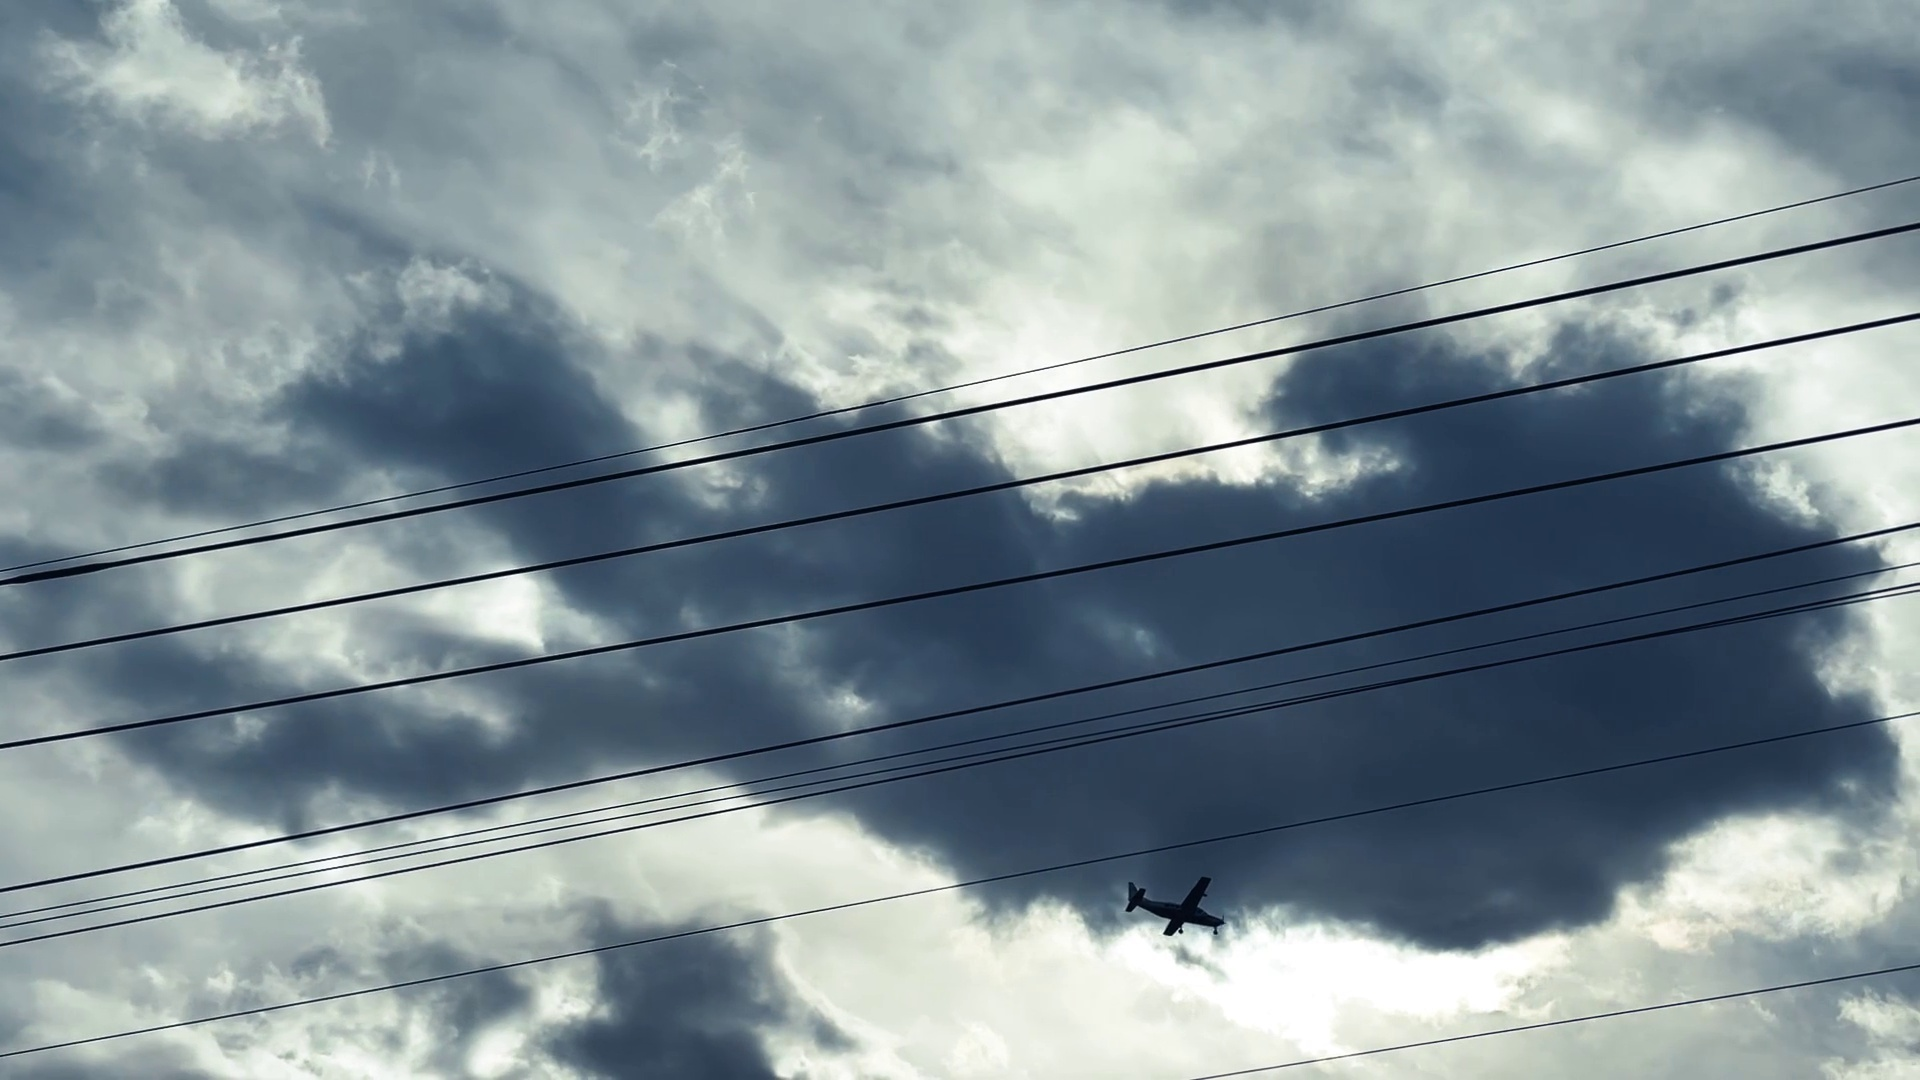plane: (1126, 876, 1225, 938)
